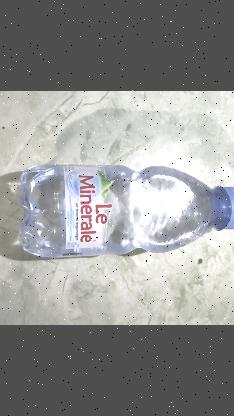Plastic Bottle: (18, 163, 234, 258)
